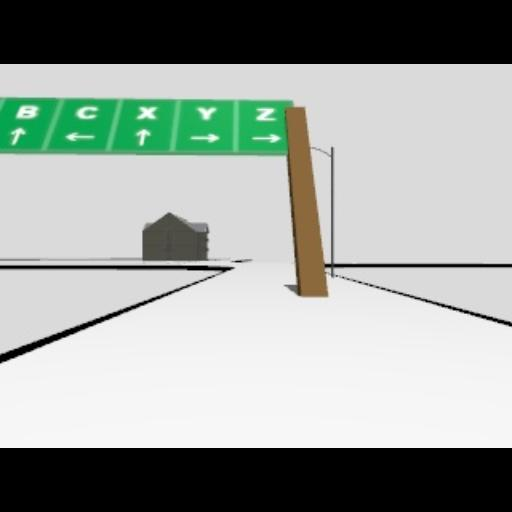B: (14, 102, 38, 118)
C: (76, 104, 98, 118)
Left: (64, 131, 94, 141)
Right: (191, 133, 221, 143), (251, 133, 281, 143)
Straight: (134, 128, 150, 146), (10, 126, 26, 144)
X: (136, 104, 156, 118)
Y: (196, 106, 216, 120)
Z: (255, 106, 277, 122)
